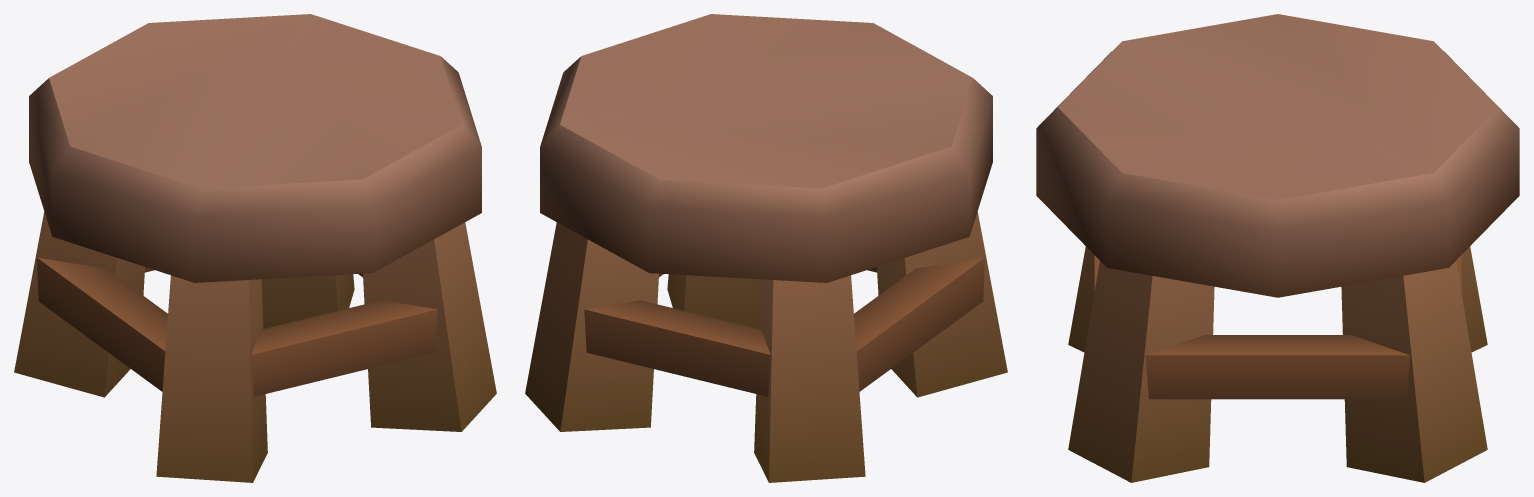
The model's file is Chair_2.fbx.
3 renders of one model, left to right at view 1: azimuth 30°, elevation 25°; view 2: azimuth 150°, elevation 25°; view 3: azimuth 270°, elevation 25°, orthographic. The views are drawn at different scales.
Parts seen in each view (by area): view 1: Chair 2; view 2: Chair 2; view 3: Chair 2.
Boxes of the visible parts, x1,y1,x2,y2 form: Chair 2: [14, 14, 496, 482]; Chair 2: [525, 14, 1007, 482]; Chair 2: [1036, 14, 1519, 482].
Bounding box in the file's own units: 85.46 × 58.69 × 85.46.
